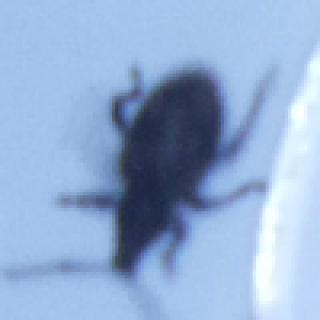bvw: (8, 57, 271, 312)
